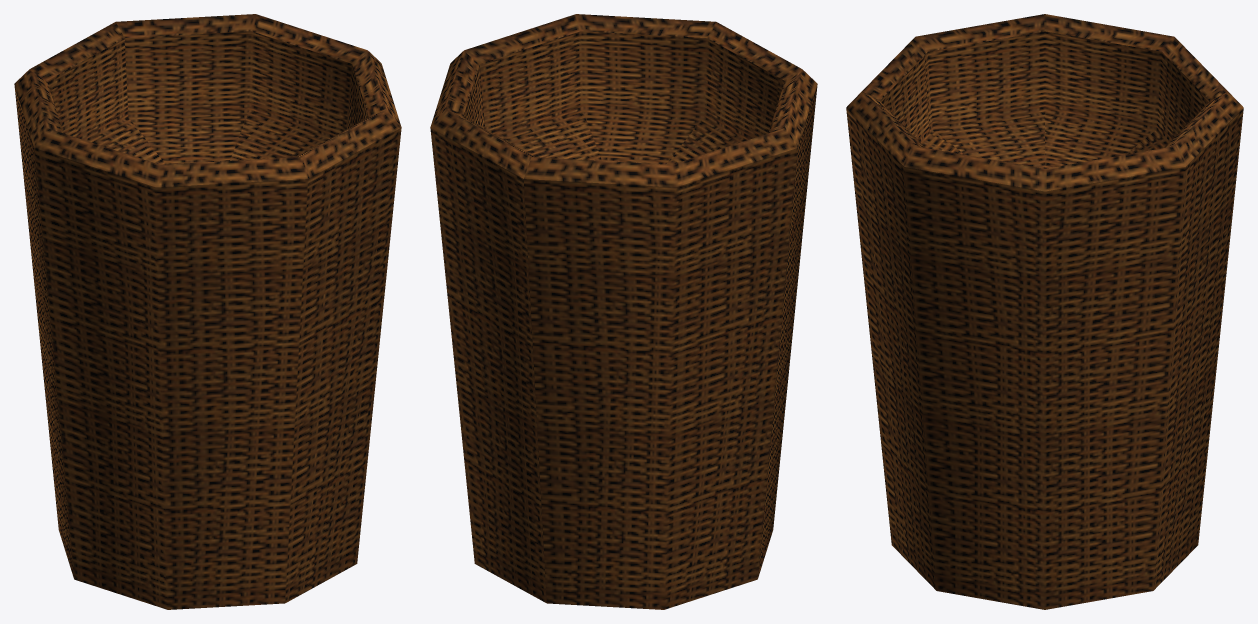
Rendered from Deko_Korb.fbx.
3 views of the same model, side by side, from view 1: azimuth 30°, elevation 25°; view 2: azimuth 150°, elevation 25°; view 3: azimuth 270°, elevation 25° (orthographic).
Visible parts, largest first — view 1: Obstkorb; view 2: Obstkorb; view 3: Obstkorb.
Part boxes in pixels (x1,y1,x2,y2): Obstkorb: (14,14,401,609); Obstkorb: (430,14,817,609); Obstkorb: (846,14,1243,609).
Bounding box in the file's own units: 53.82 × 67.77 × 53.82.
